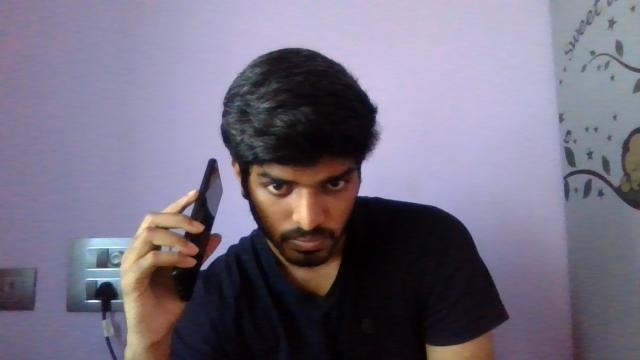PhoneUse: (159, 156, 225, 296)
SafeDriving: (255, 164, 302, 200), (316, 159, 356, 198)
